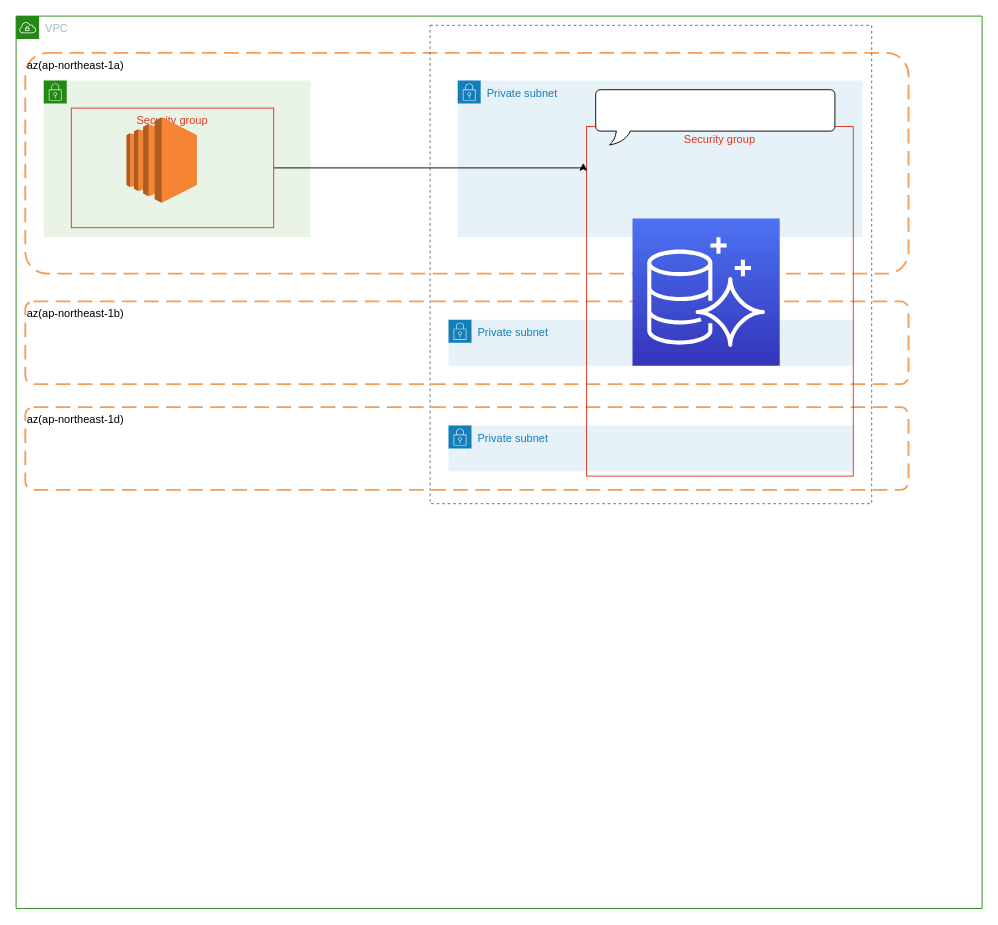
Image size: 998x925. Some labels were removed from this diagram. The shapes that lost their labels are listed below. From the top down, each one's box as (x1, y1, x2, y2) in pixels, then its label:
(595, 89, 835, 145): インバウンドルール: 踏み台からのアクセス
(126, 116, 197, 203): 踏み台サーバ
(43, 80, 310, 237): Public subnet
(429, 24, 872, 504): サブネットグループ
(632, 218, 780, 366): Aurora Postgres
